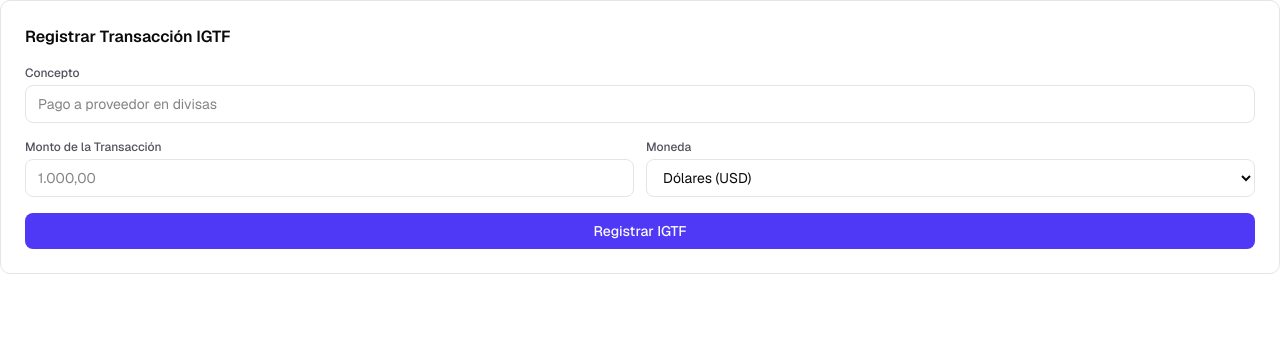
Test: IGTFForm ÔÇö preview condicional › NO muestra preview para EUR sin CE (A5)
Select "Euros (EUR)" in the dropdown: (950, 178) [646,159,1255,197]
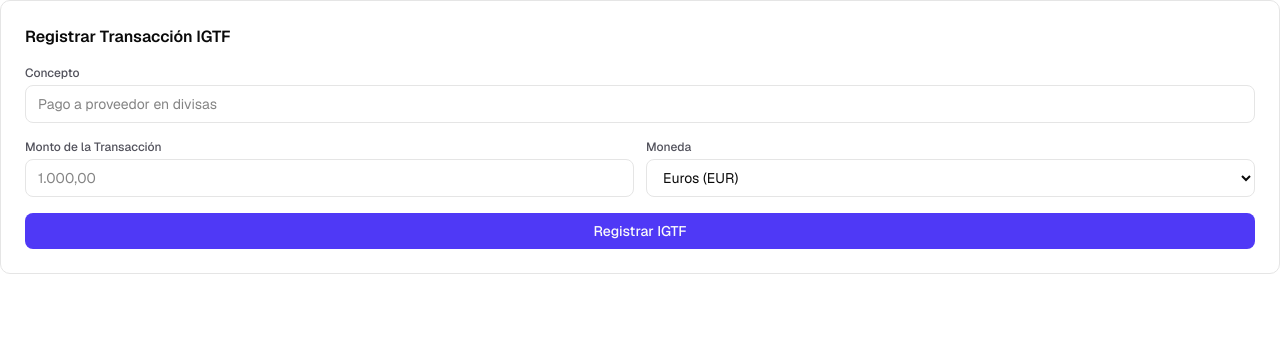
In the field with placeholder "1.000,00": (330, 178) [25,159,634,197], type "500"
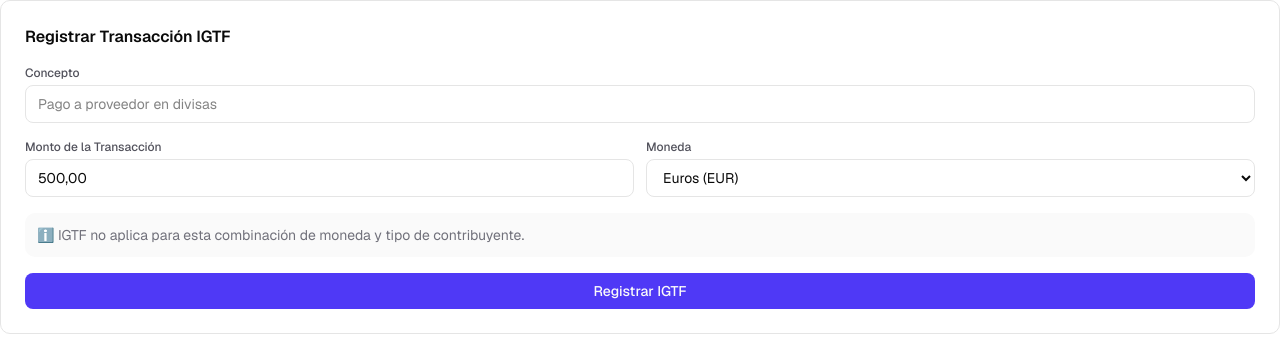
Expected: the text "IGTF no aplica" is shown, [37,226,524,244]
